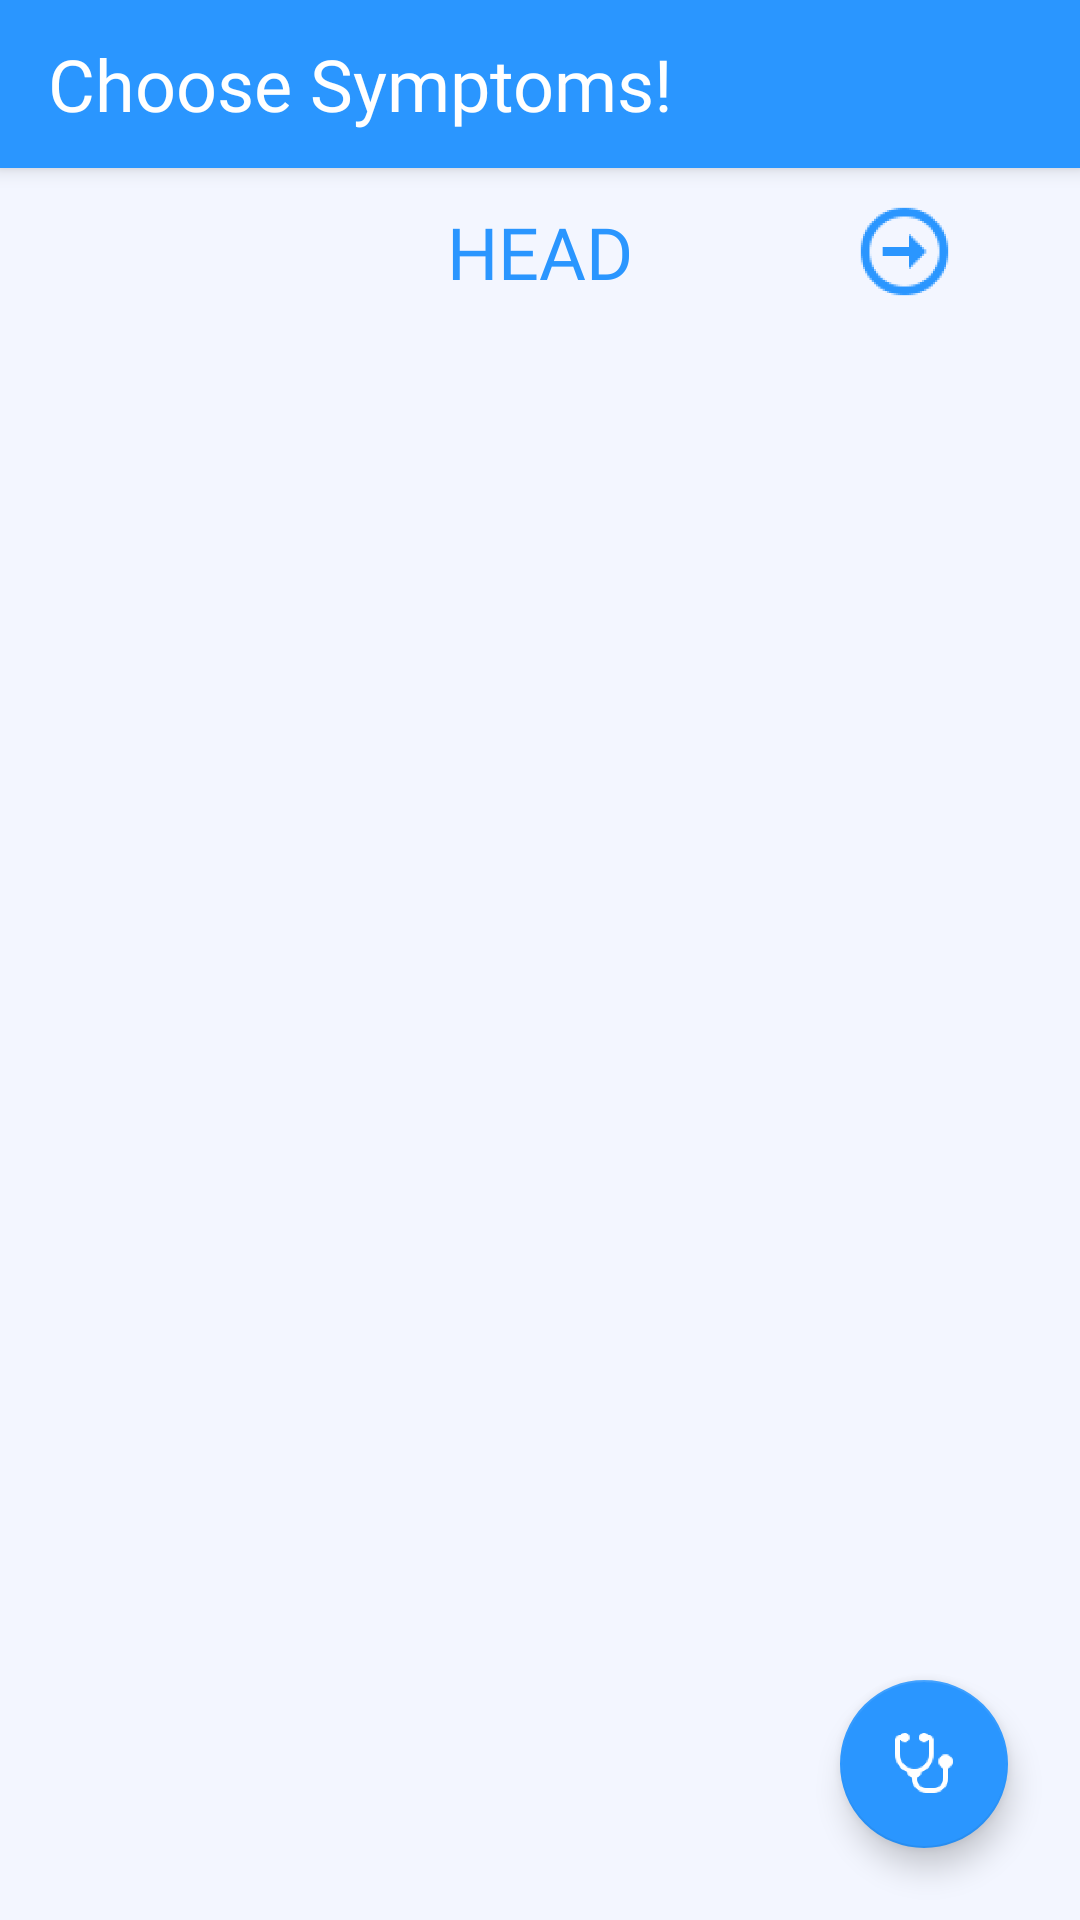

Icon click points for this 1080px x 1920px phone screenshot, format (x,y):
diagnose: (924,1764)
forward: (904,251)
